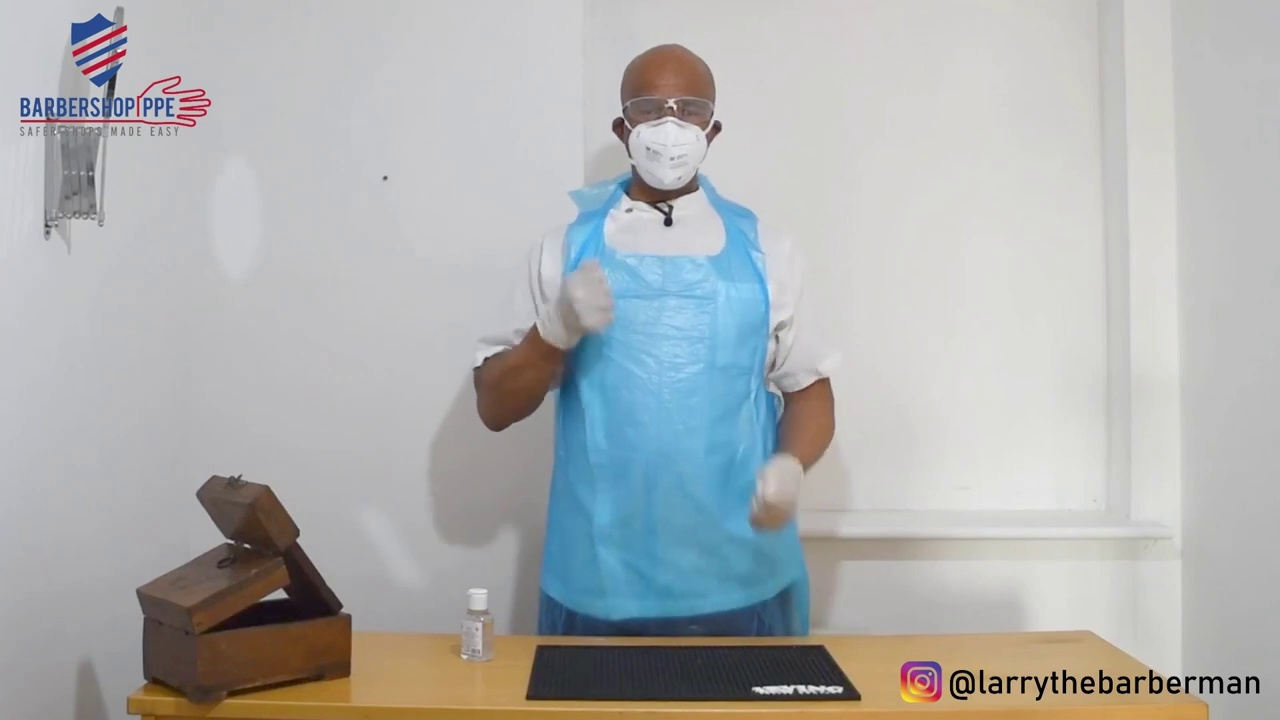Apron: (561, 170, 783, 641)
Glove: (737, 446, 826, 536), (541, 258, 622, 347)
Mask: (612, 119, 721, 190)
No_Hairnet: (606, 39, 716, 95)
